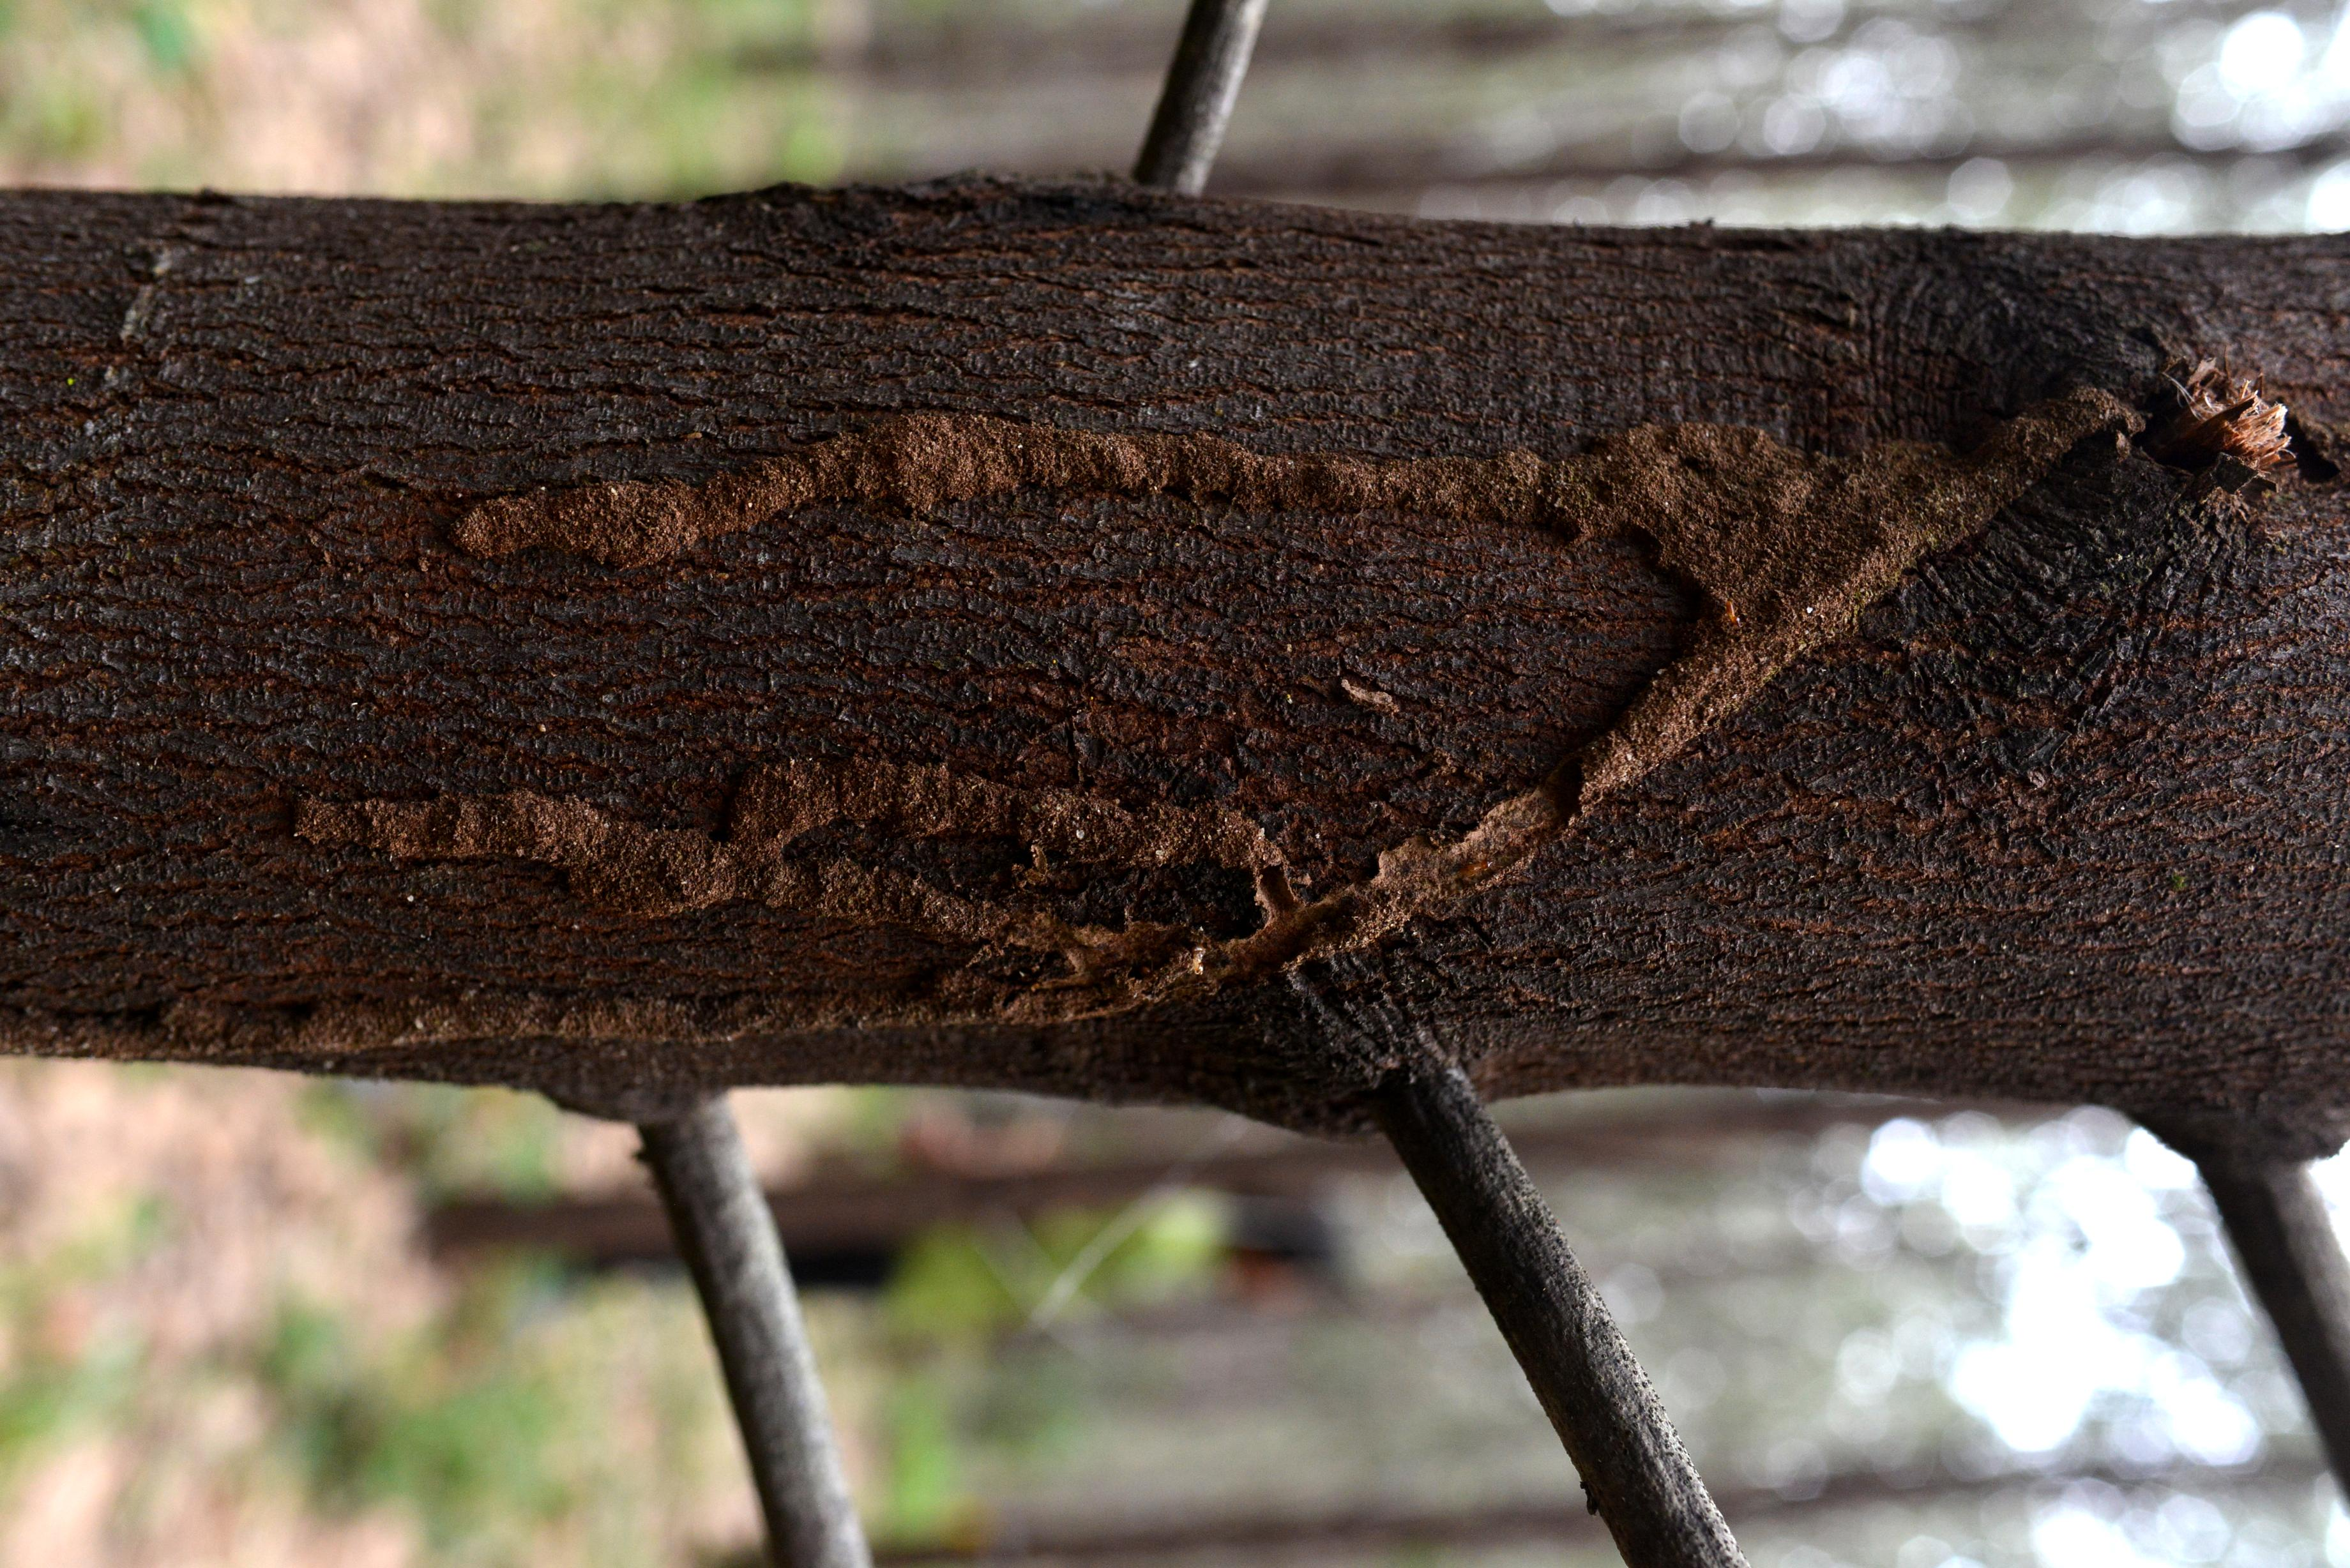Termite - Nest: (68, 355, 2105, 1053)
